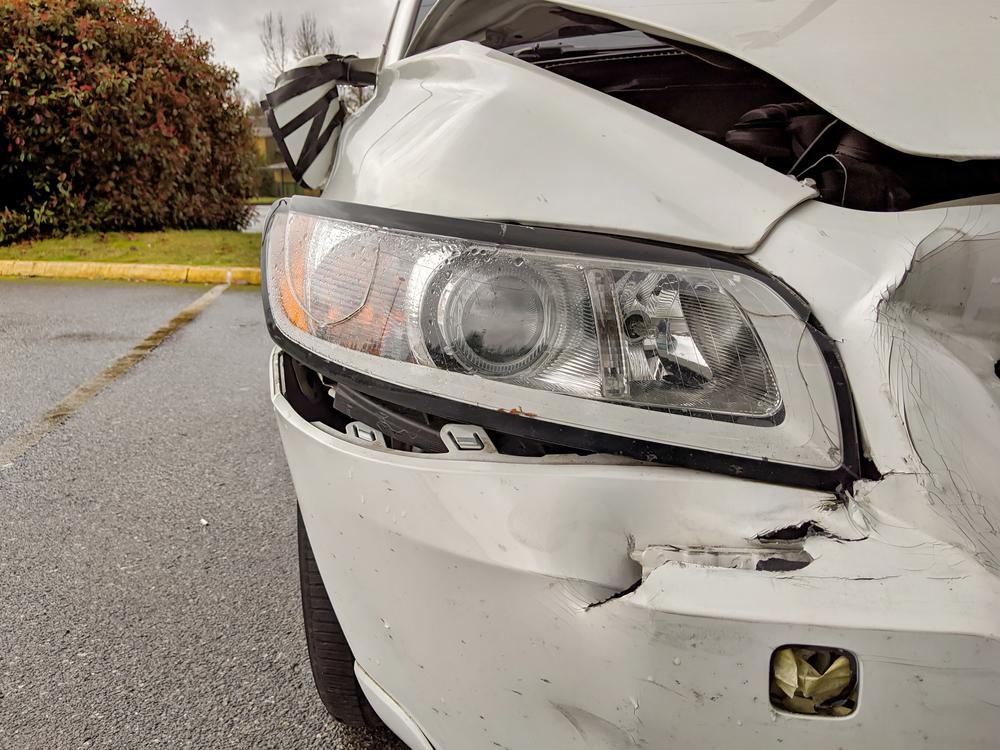crack: (583, 522, 875, 612)
dent: (878, 231, 1000, 574), (550, 479, 654, 606)
lamp broken: (264, 208, 853, 473)
